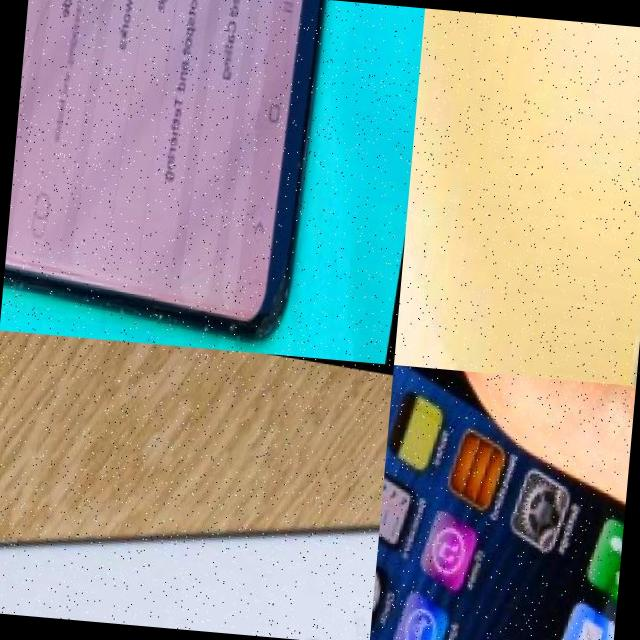screen crack: (162, 188, 315, 348), (5, 0, 92, 249)
